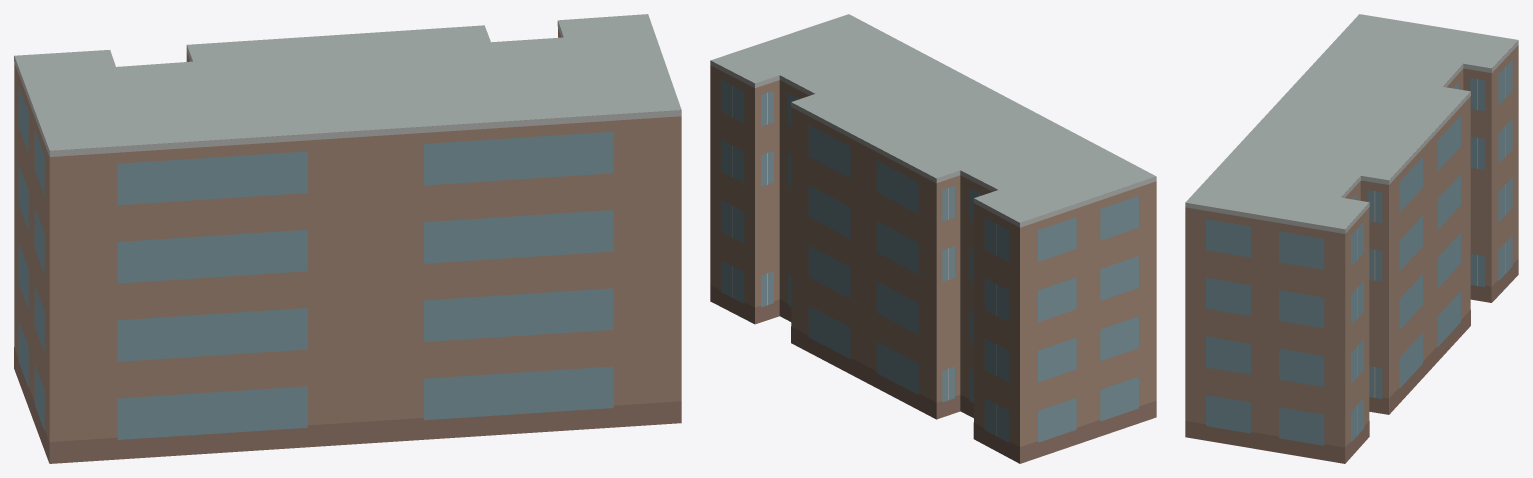
Rendered from survey-upis-32873590.glb.
The picture shows the model from 3 angles, left to right: view 1: azimuth 30°, elevation 25°; view 2: azimuth 150°, elevation 25°; view 3: azimuth 270°, elevation 25°; orthographic projection. The views are drawn at different scales.
Parts seen in each view (by area): view 1: survey-upis-32873590.tmp; view 2: survey-upis-32873590.tmp; view 3: survey-upis-32873590.tmp.
Boxes of the visible parts, box(x1,y1,x2,y2) form: survey-upis-32873590.tmp: box(14, 14, 681, 463); survey-upis-32873590.tmp: box(710, 14, 1156, 463); survey-upis-32873590.tmp: box(1185, 14, 1518, 463).
Size of the model in its own units: 24.03 by 12.2 by 15.73.
